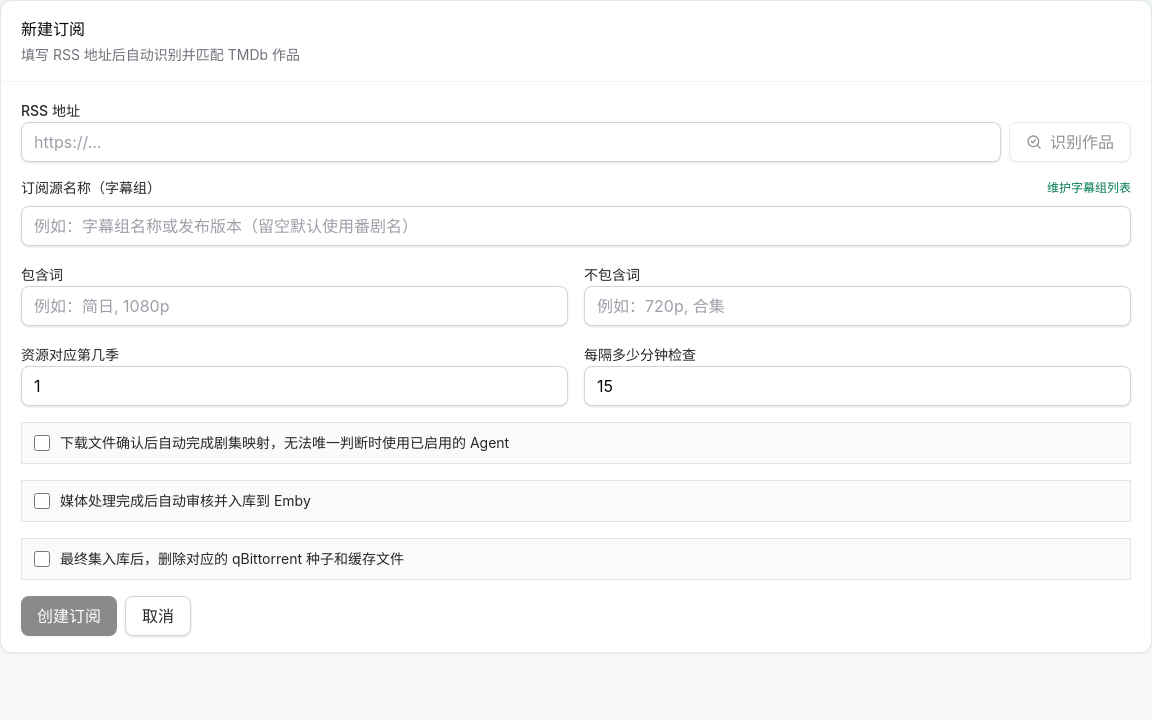
Test case: CreateSubscriptionForm › rejects an unvalidated proposal left by a failed Agent resolution
Type "https://feeds.example.test/show.xml" into the field labelled "RSS 地址".
click(511, 142); type("https://feeds.example.test/show.xml")  # box [21,122,1001,162]
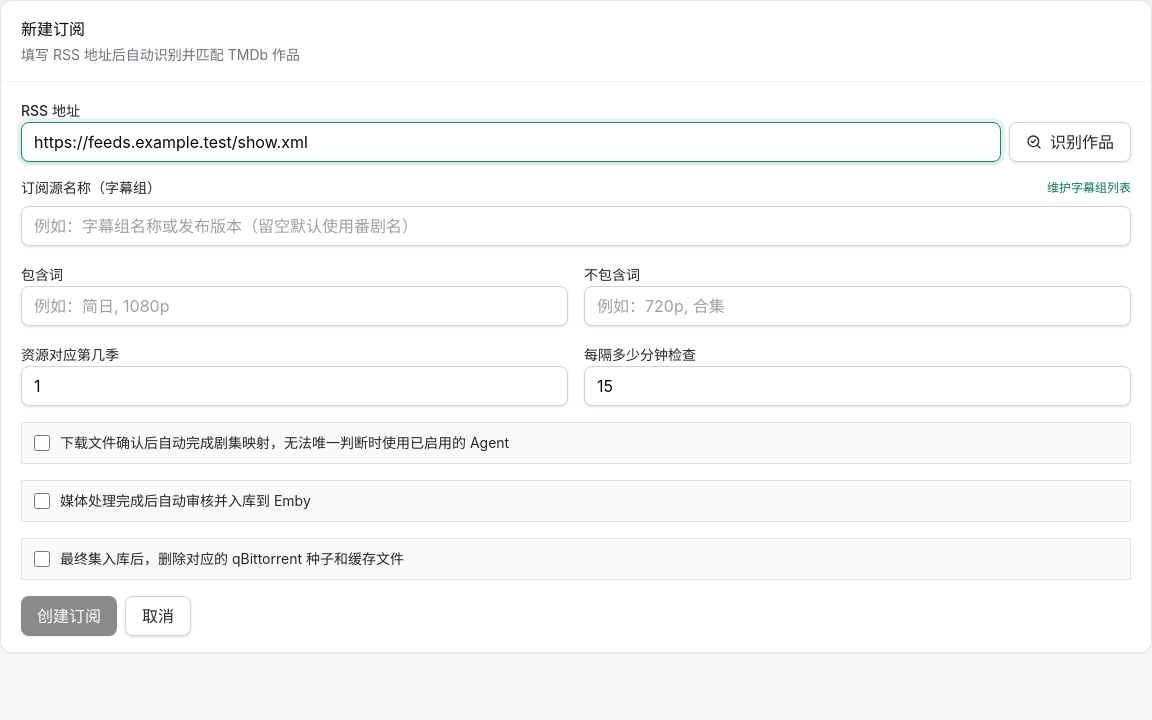
Click the button "识别作品".
click(1070, 142)  # box [1009,122,1131,162]
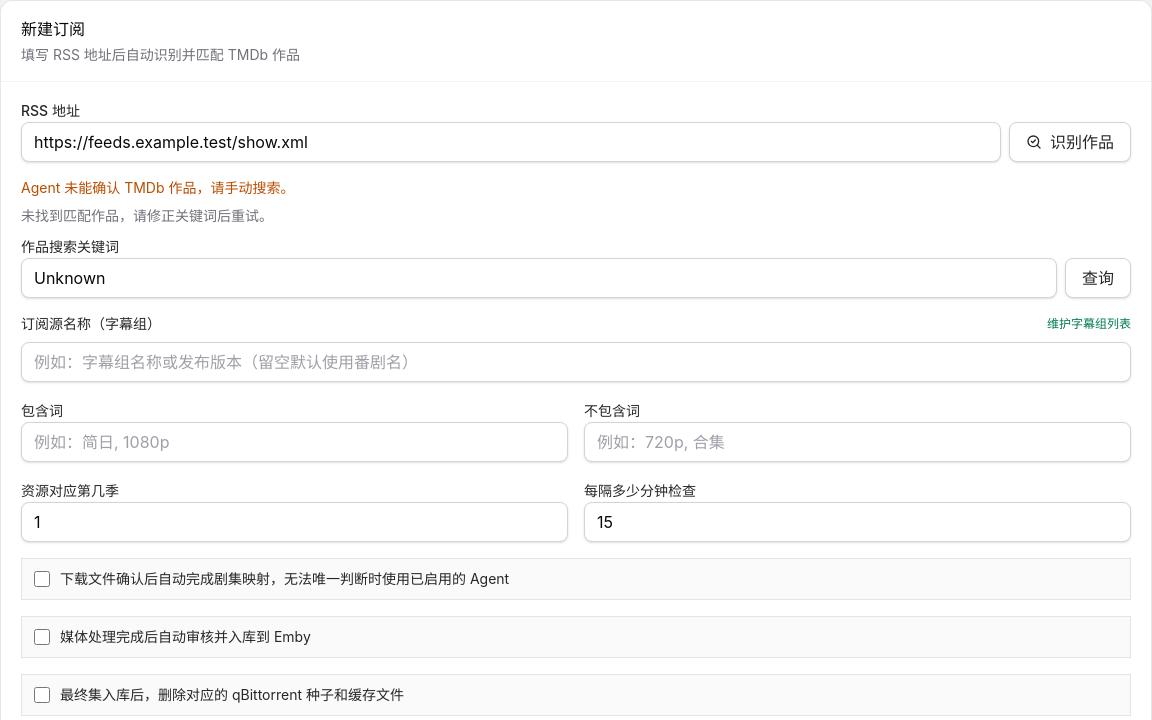
Result: the text "Agent 未能确认 TMDb 作品，请手动搜索。" is shown at [21,179,294,196]
Result: the field labelled "作品搜索关键词" is shown at [21,258,1057,298]
